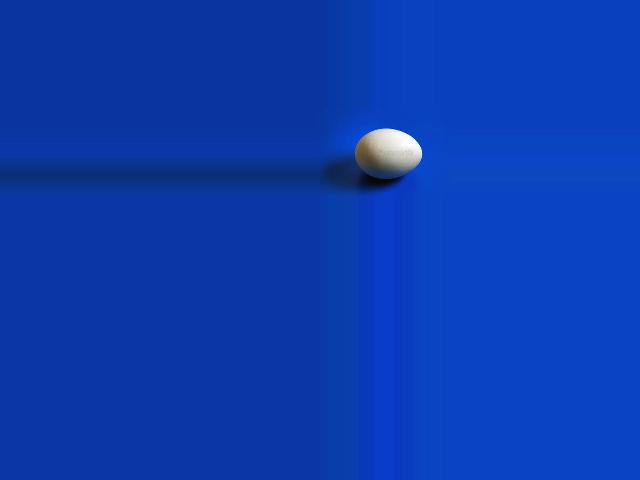egg: (353, 128, 422, 179)
